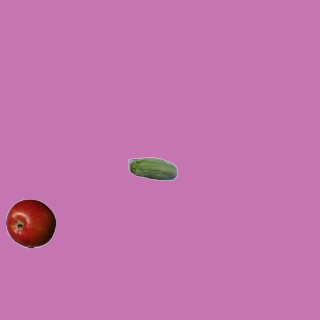Apple Braeburn: (5, 198, 55, 248)
Corn Husk: (127, 145, 177, 195)
